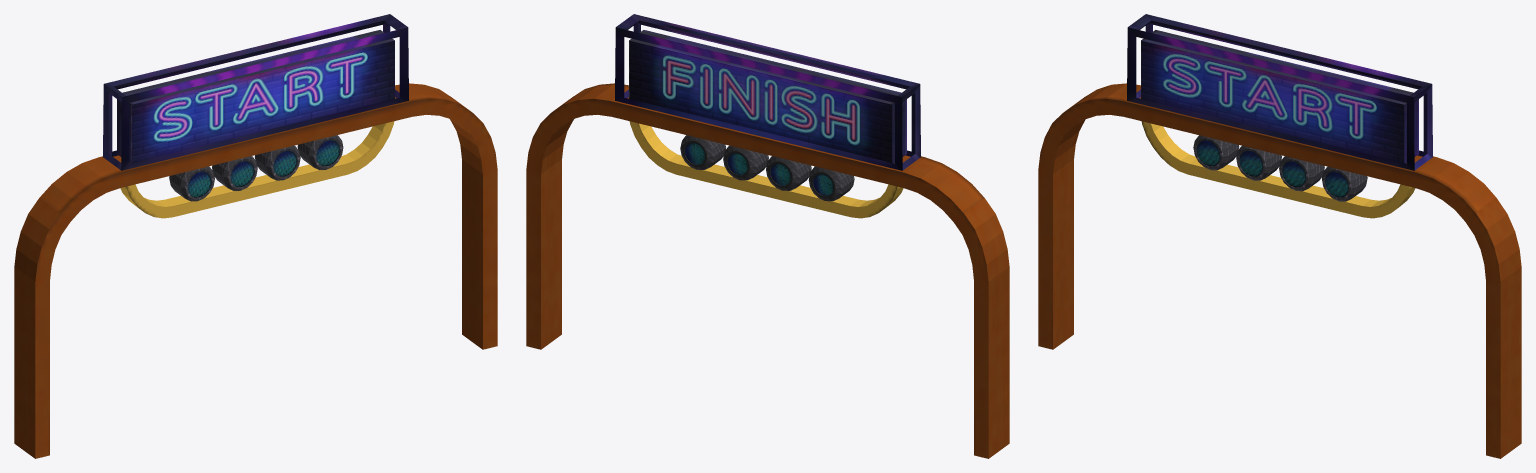
Rendered from Start_Finish.FBX.
3 views of the same model, side by side, from view 1: azimuth 30°, elevation 25°; view 2: azimuth 150°, elevation 25°; view 3: azimuth 330°, elevation 25° (orthographic).
Visible parts, largest first — view 1: Start_Finish_01; view 2: Start_Finish_01; view 3: Start_Finish_01.
Part boxes in pixels (bbox=[...]): Start_Finish_01: bbox=[14, 14, 497, 458]; Start_Finish_01: bbox=[526, 14, 1009, 458]; Start_Finish_01: bbox=[1038, 14, 1521, 458].
Size of the model in its own units: 19.44 by 13.63 by 1.53.
